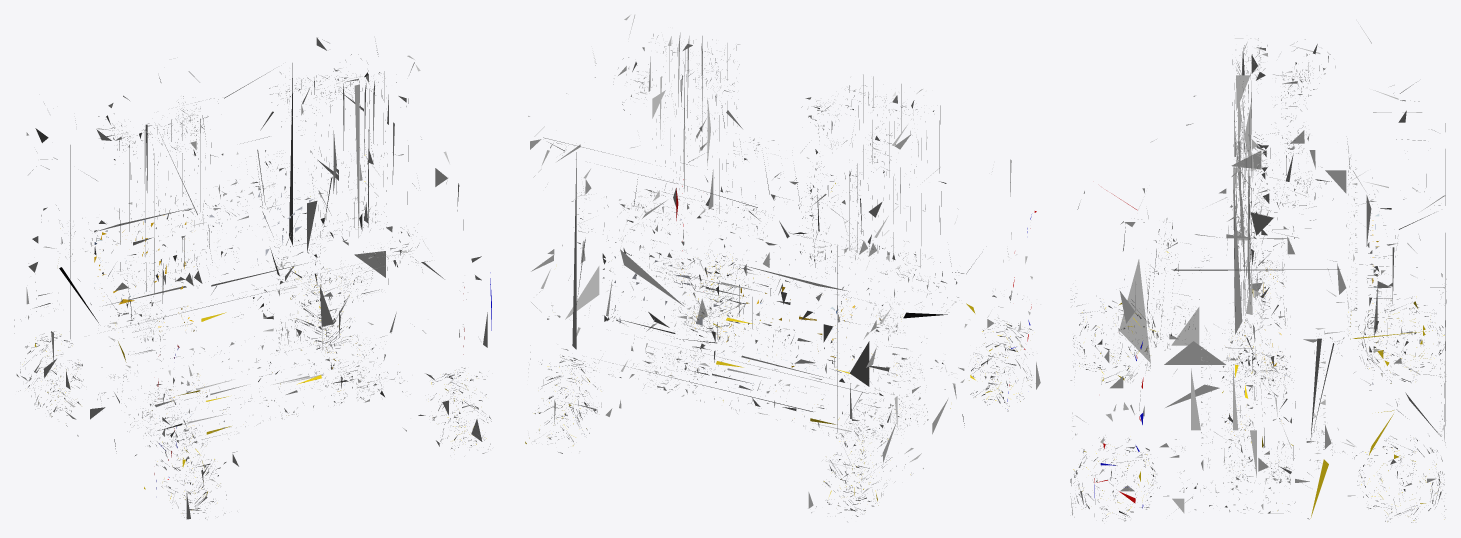
Rendered from Assembly 1 - Into the Deep-fresh-high.glb.
The picture shows the model from 3 angles, left to right: view 1: azimuth 30°, elevation 25°; view 2: azimuth 150°, elevation 25°; view 3: azimuth 270°, elevation 25°; orthographic projection. The views are drawn at different scales.
Parts seen in each view (by area): view 1: world; view 2: world; view 3: world.
Boxes of the visible parts, <box> form: world: <box>14,37,493,519</box>; world: <box>525,15,1040,521</box>; world: <box>1070,26,1446,522</box>.
Bounding box in the file's own units: 0.4036 × 0.42 × 0.4002.
